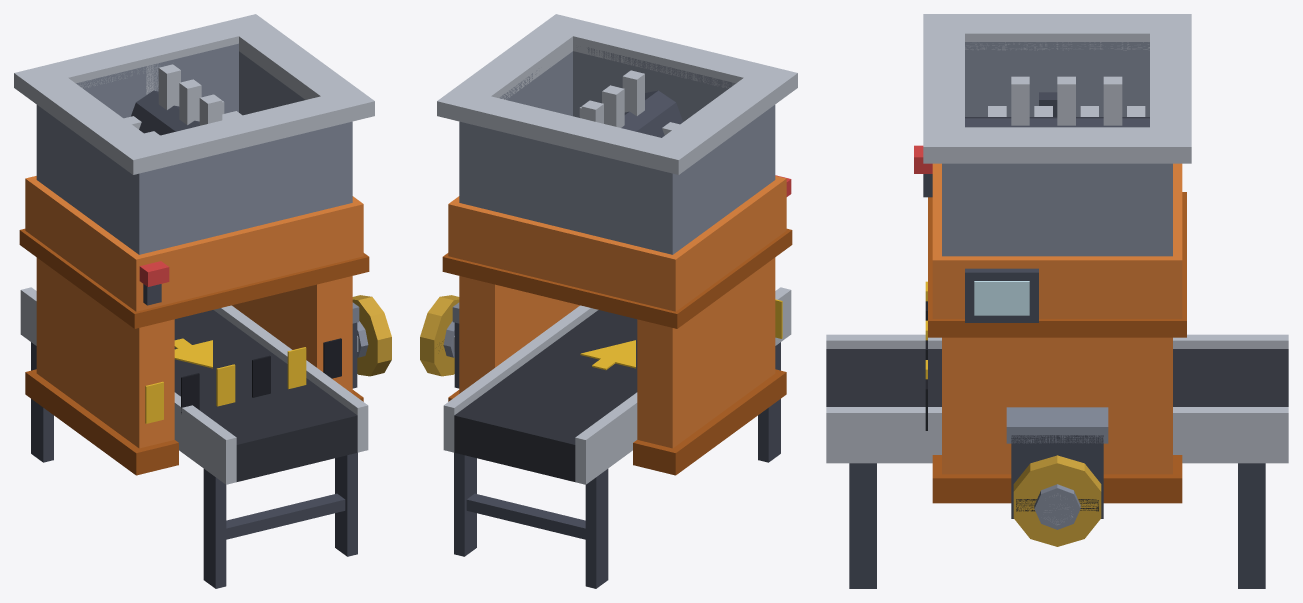
The model's file is shredder.glb.
3 renders of one model, left to right at view 1: azimuth 30°, elevation 25°; view 2: azimuth 150°, elevation 25°; view 3: azimuth 270°, elevation 25°, orthographic. The views are drawn at different scales.
Parts seen in each view (by area): view 1: shredder, spin-y, spin-x; view 2: shredder, spin-y, spin-x; view 3: shredder, spin-x, spin-y.
Part boxes in pixels (x1,y1,x2,y2): shredder: (14, 14, 374, 588); spin-y: (124, 49, 242, 137); spin-x: (352, 295, 391, 376); shredder: (437, 14, 797, 588); spin-y: (562, 70, 682, 137); spin-x: (420, 295, 459, 376); shredder: (826, 14, 1288, 588); spin-x: (1013, 455, 1101, 546); spin-y: (965, 76, 1168, 127).
Size of the model in its own units: 0.86 by 1.12 by 1.
Materials: 3 (3 with a texture image).
